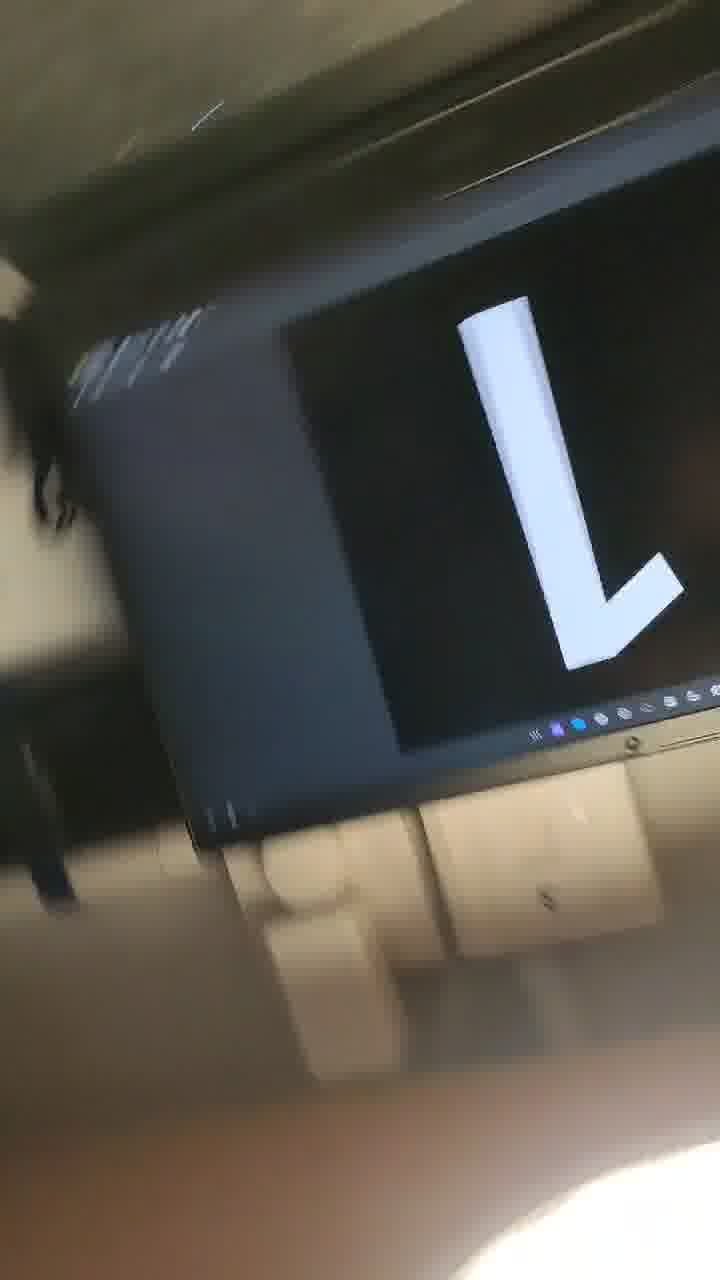one: (425, 246, 720, 729)
